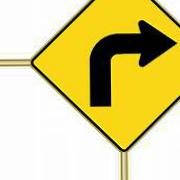right: (31, 1, 180, 151)
